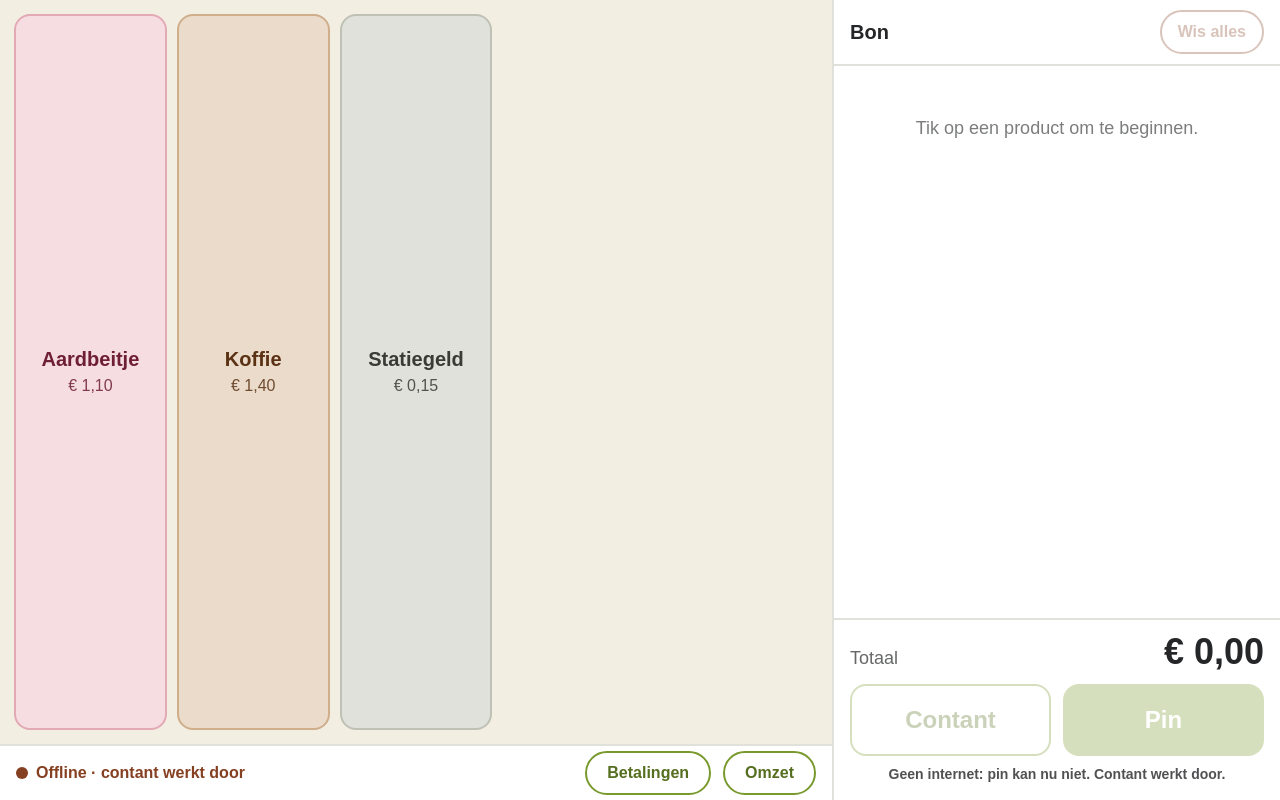
Test: says so when a sale could not be stored on the iPad
Click the button "Aardbeitje € 1,10" at (90, 372), box [14,14,167,730]
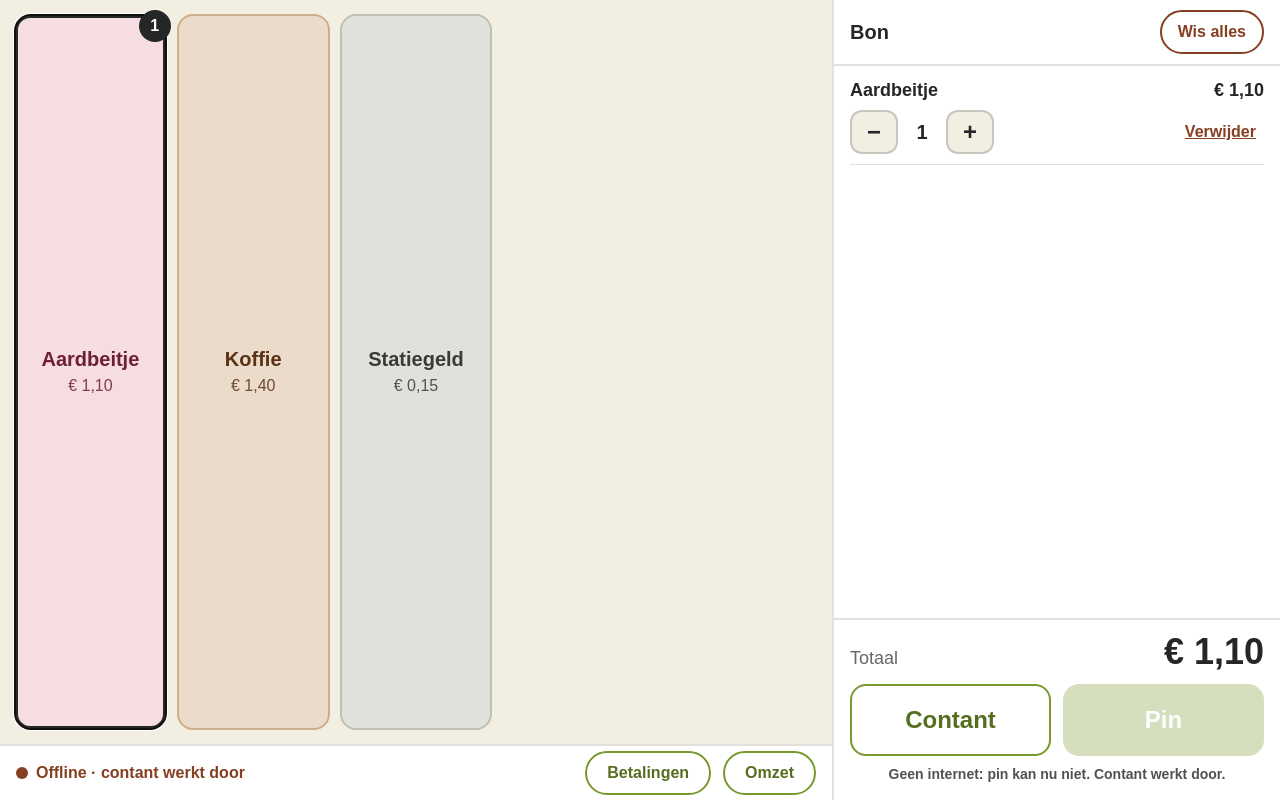
Click the button "Contant" at (950, 720), box [850,684,1051,756]
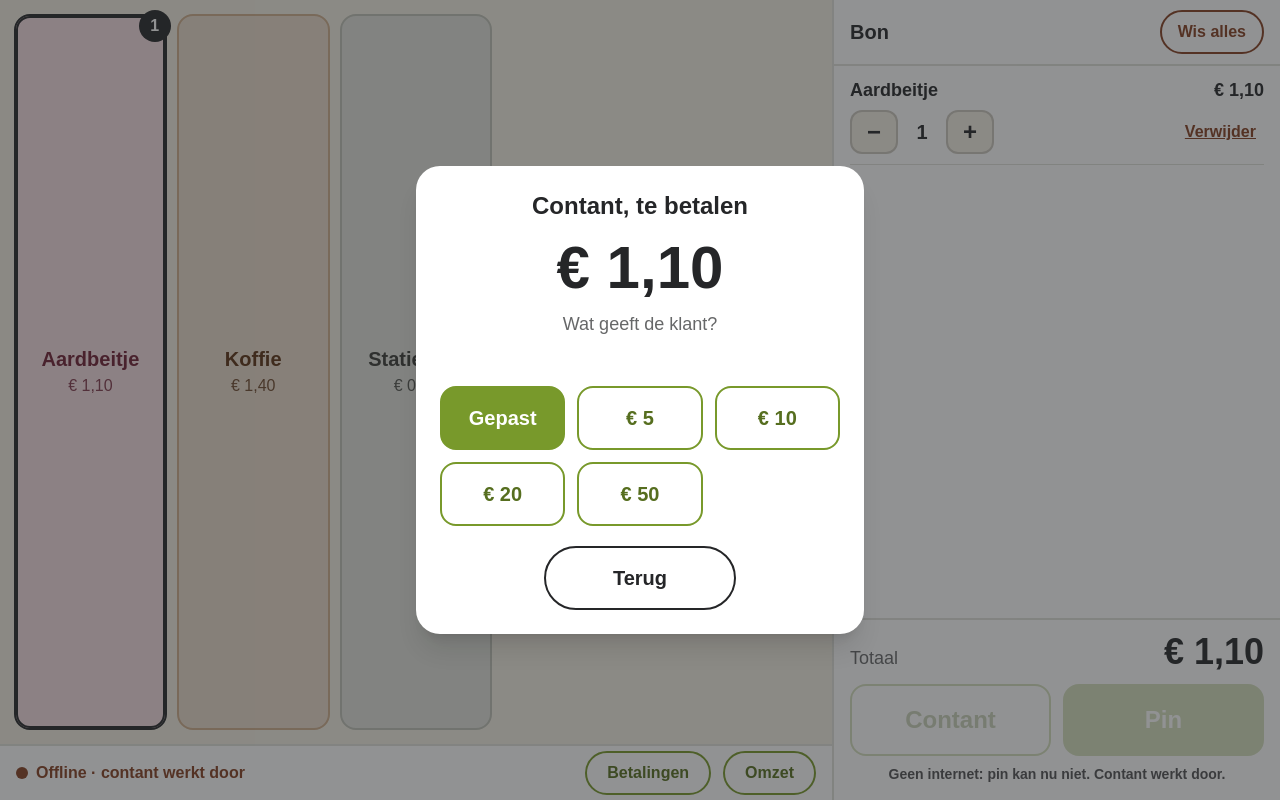
Click the button "Gepast" at (503, 418), box [440,386,565,450]
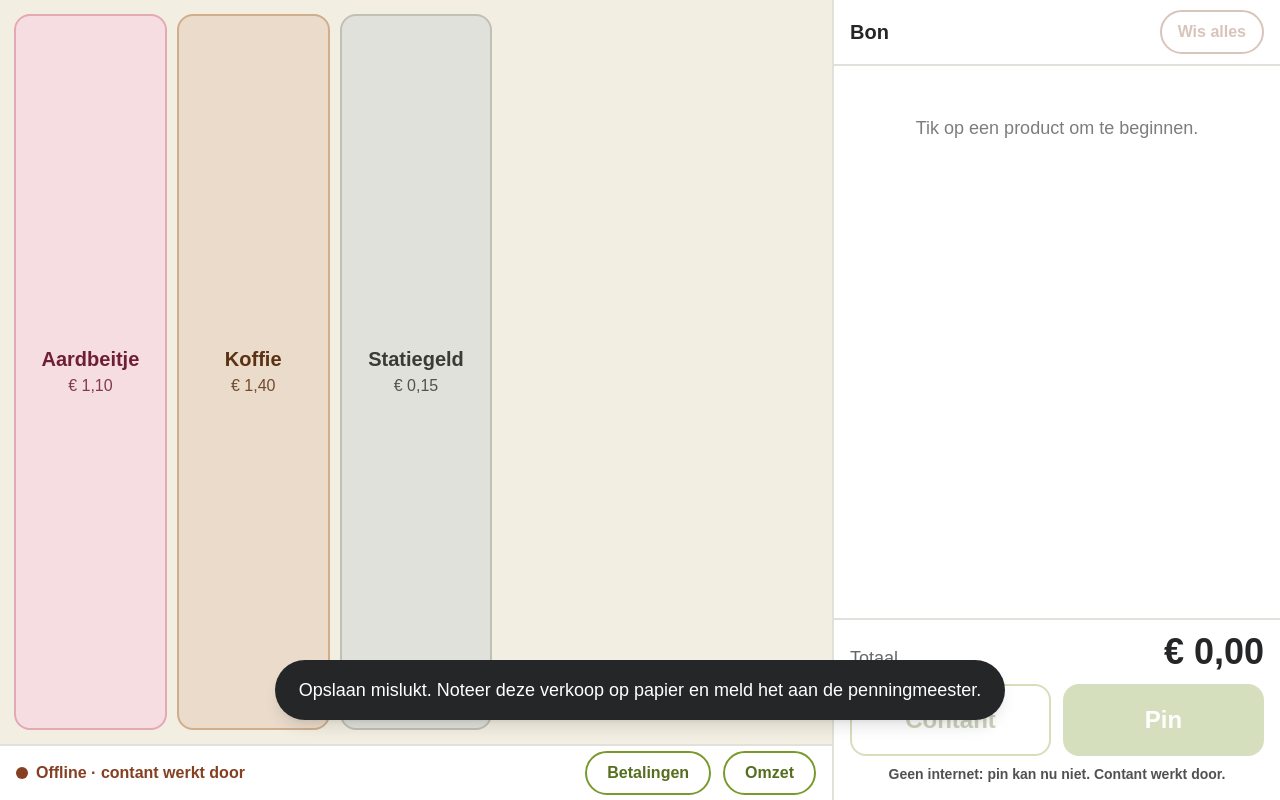
Expected: the text "Opslaan mislukt. Noteer deze verkoop op papier en meld het aan de penningmeester." is shown, [299,680,981,700]
